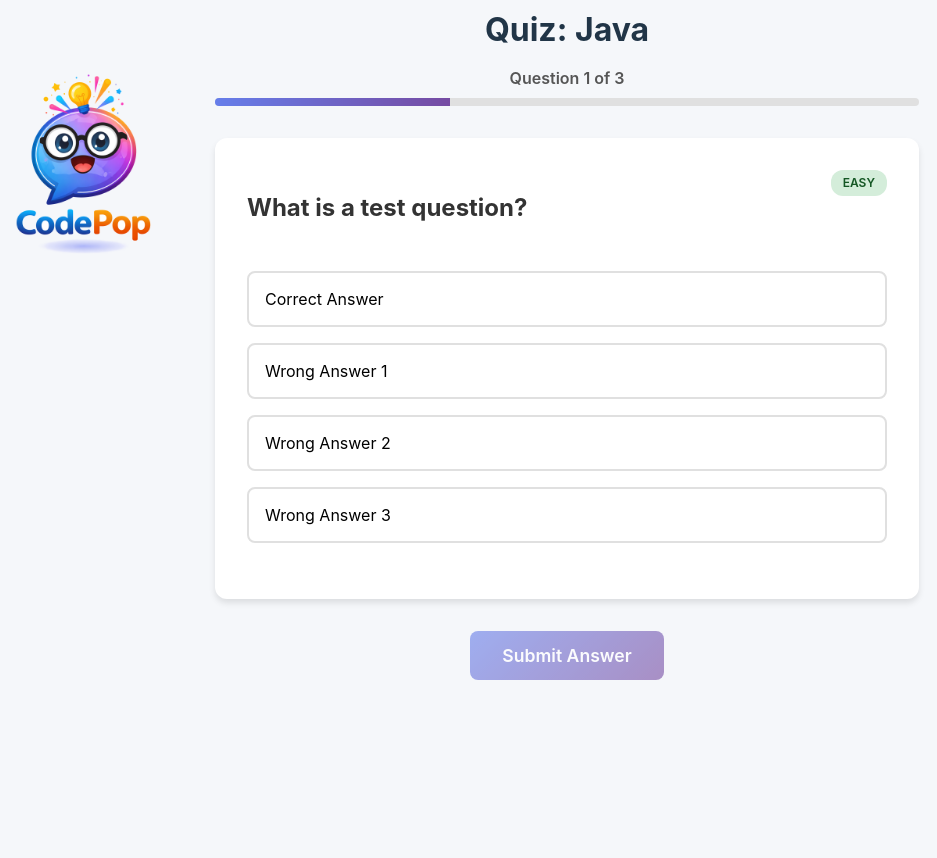
Scenario: QuizPage › shows feedback after submitting incorrect answer
Check: the text "What is a test question?" is shown, box [247,193,528,222]
Click the button "Wrong Answer 1": (326, 371) [247,343,887,399]
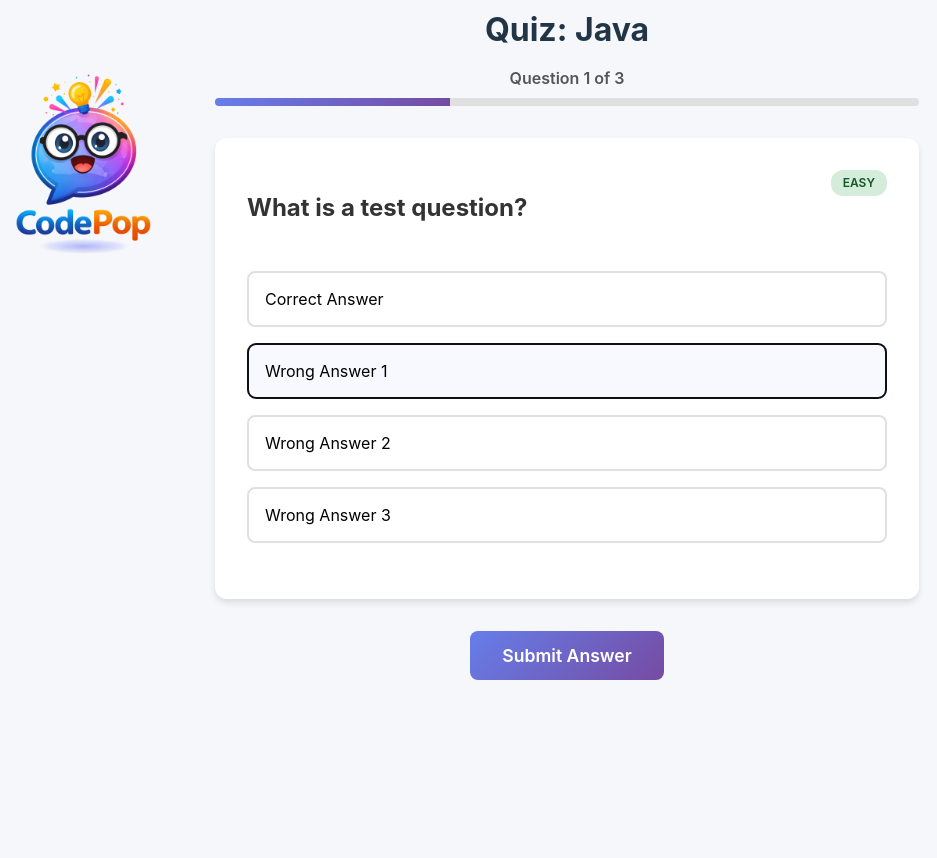
Click the button "Submit Answer": (567, 655) [470,631,664,680]
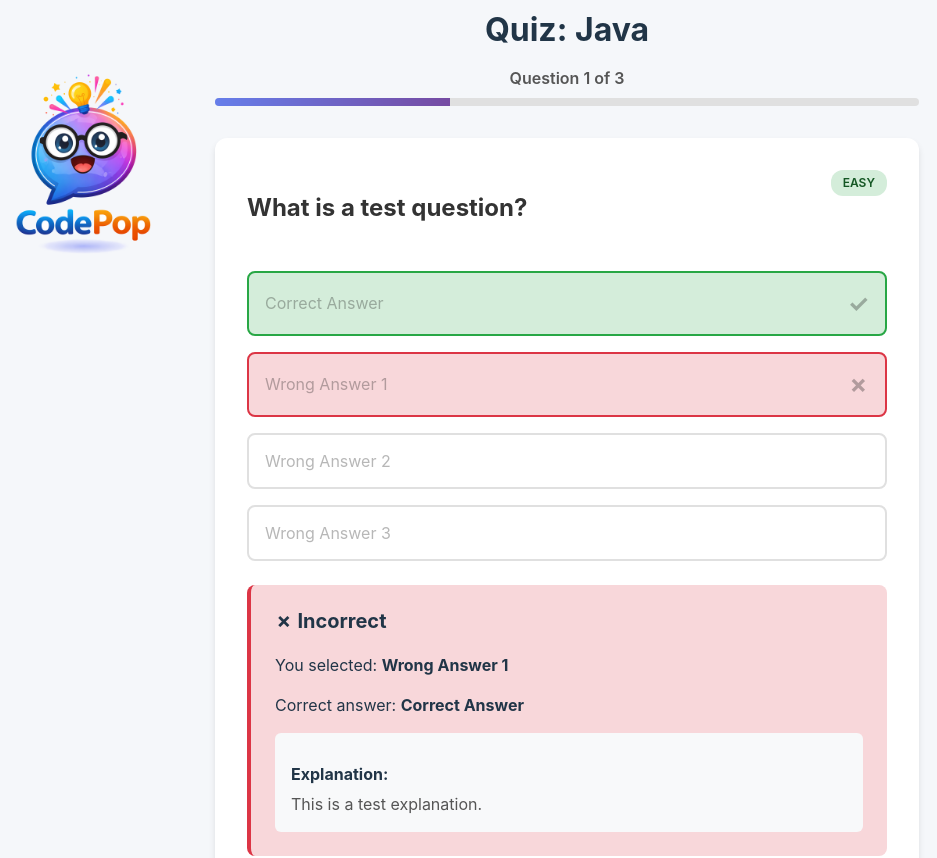
Check: the heading "✗ Incorrect" is shown, box [275,609,386,633]
Check: the text "You selected: Wrong Answer 1" is shown, box [275,655,508,675]
Check: the text "Correct answer: Correct Answer" is shown, box [275,695,524,715]
